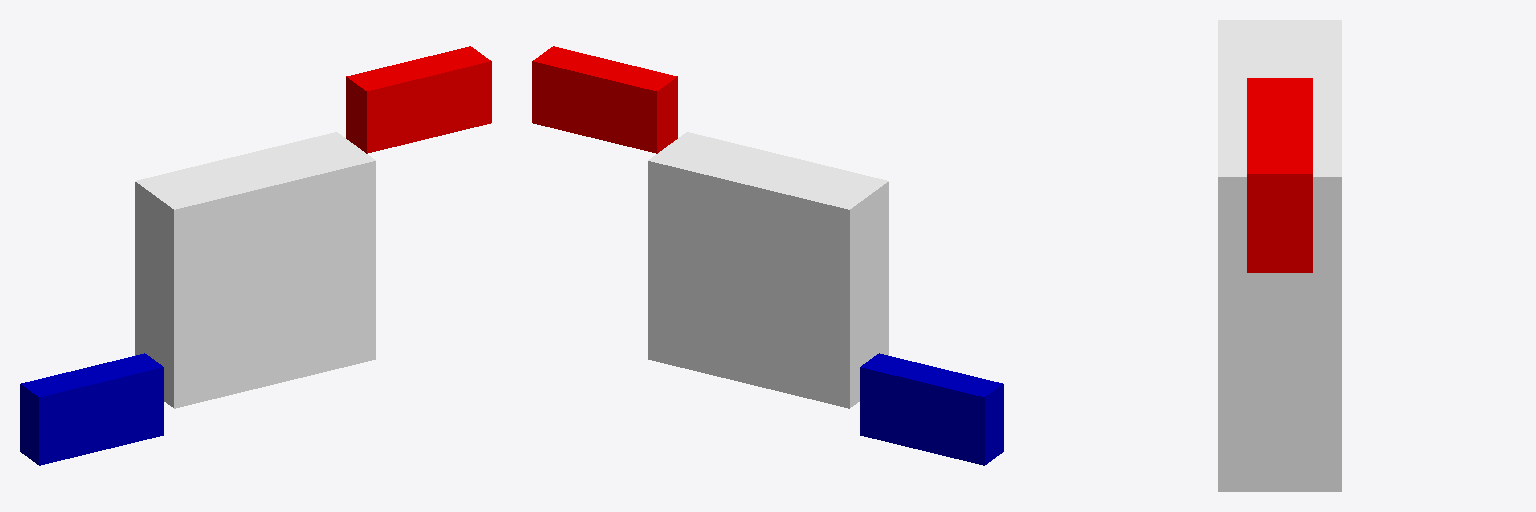
URDF robot description (physics):
<?xml version="1.0"?>
<robot name="physics">
<link name="DOF_ArmRotate">
<visual>
<geometry>
<box size="0.42 0.11 0.22"/>
</geometry>
<origin rpy="0 0 0" xyz="0.21 0 0"/>
<material name="blue">
<color rgba="0 0 0.8 1"/>
</material>
</visual>
<collision>
<geometry>
<box size="0.42 0.11 0.22"/>
</geometry>
<origin rpy="0 0 0" xyz="0.21 0 0"/>
</collision>
<inertial>
<mass value="0"/>
<origin rpy="0 0 0" xyz="0.21 0 0 "/>
<inertia ixx="1.0" ixy="0.0" ixz="0.0" iyy="1.0" iyz="0.0" izz="1.0"/>
</inertial>
</link>

<link name="DOF_Snodo1">
<visual>
<geometry>
<box size="0.68 0.23 0.64"/>
</geometry>
<origin rpy="0 0 0" xyz="0.34 0 0.32"/>
<material name="white">
<color rgba="1 1 1 1"/>
</material>
</visual>
<collision>
<geometry>
<box size="0.68 0.23 0.64"/>
</geometry>
<origin rpy="0 0 0" xyz="0.34 0 0.32"/>
</collision>
<inertial>
<mass value="2"/>
<origin rpy="0 0 0" xyz="0.34 0 0.32"/>
<inertia ixx="1.0" ixy="0.0" ixz="0.0" iyy="1.0" iyz="0.0" izz="1.0"/>
</inertial>
</link>

<joint name="Rotate_White_Joint" type="revolute">
<axis xyz="0 1 0"/>
<limit effort="1000.0" lower="-0.785" upper="0.785" velocity="0.5"/>
<origin rpy="0 0 0" xyz="0.42 0.0 0.0"/>
<parent link="DOF_ArmRotate"/>
<child link="DOF_Snodo1"/>
</joint>

<link name="DOF_Snodo2">
<visual>
<geometry>
<box size="0.42 0.12 0.20"/>
</geometry>
<origin rpy="0 0 0" xyz="0.21 0 0.10"/>
<material name="red">
<color rgba="1 0 0 1"/>
</material>
</visual>
<collision>
<geometry>
<box size="0.42 0.12 0.20"/>
</geometry>
<origin rpy="0 0 0" xyz="0.21 0 0.10"/>
</collision>
<inertial>
<mass value="1"/>
<origin rpy="0 0 0" xyz="0.21 0 0.10"/>
<inertia ixx="1.0" ixy="0.0" ixz="0.0" iyy="1.0" iyz="0.0" izz="1.0"/>
</inertial>
</link>

<joint name="Rotate_Red_Joint" type="revolute">
<axis xyz="0 1 0"/>
<limit effort="1000.0" lower="-0.785" upper="0.785" velocity="0.5"/>
<origin rpy="0 0 0" xyz="0.68 0.0 0.64"/>
<parent link="DOF_Snodo1"/>
<child link="DOF_Snodo2"/>
</joint>
</robot>

--- Facts derived from the render (not from the file) ---
3 views of the same robot in one strip: view 1: azimuth 30°, elevation 25°; view 2: azimuth 150°, elevation 25°; view 3: azimuth 270°, elevation 25° (orthographic).
Model physics with 3 links and 2 joints (2 revolute), rooted at DOF_ArmRotate, posed every joint at zero.
Links seen in each view (by area): view 1: DOF_Snodo1, DOF_ArmRotate, DOF_Snodo2; view 2: DOF_Snodo1, DOF_ArmRotate, DOF_Snodo2; view 3: DOF_Snodo1, DOF_Snodo2.
Link boxes in pixels (x1,y1,x2,y2): DOF_Snodo1: [135, 132, 375, 408]; DOF_ArmRotate: [20, 353, 163, 465]; DOF_Snodo2: [346, 46, 491, 153]; DOF_Snodo1: [648, 132, 888, 408]; DOF_ArmRotate: [860, 353, 1003, 465]; DOF_Snodo2: [532, 46, 677, 153]; DOF_Snodo1: [1218, 20, 1341, 491]; DOF_Snodo2: [1247, 78, 1312, 272].
Bounding box of the posed robot: 1.52 × 0.23 × 0.95 m (x, y, z).
Geometry: primitives only (box / cylinder / sphere), no mesh files.